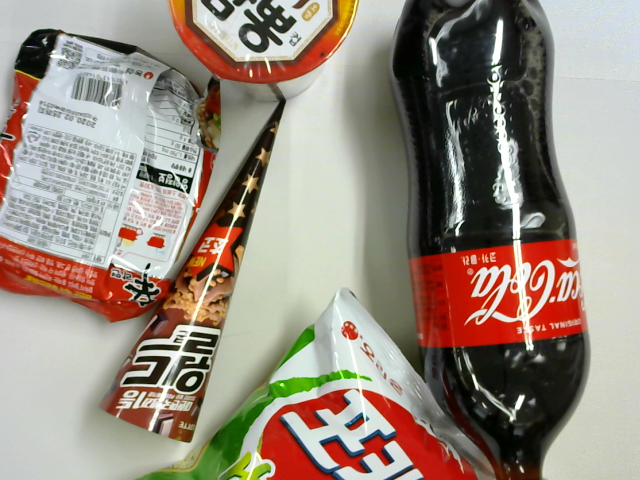Coca_Cola_1.5L: (393, 1, 595, 479)
Ojjam: (174, 1, 358, 96)
Pocachip_Onion: (135, 290, 501, 480)
Sinramen: (1, 32, 209, 308)
World_Cone_Choco: (103, 97, 288, 444)
